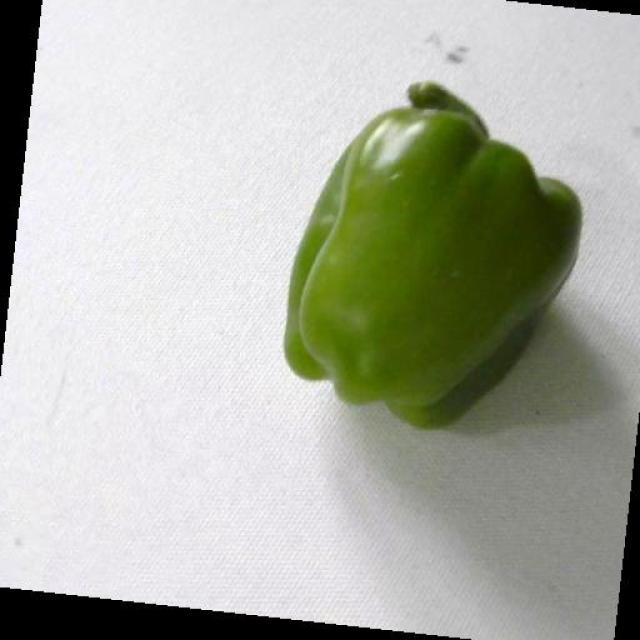Fresh_Capsicum: (297, 102, 562, 414)
